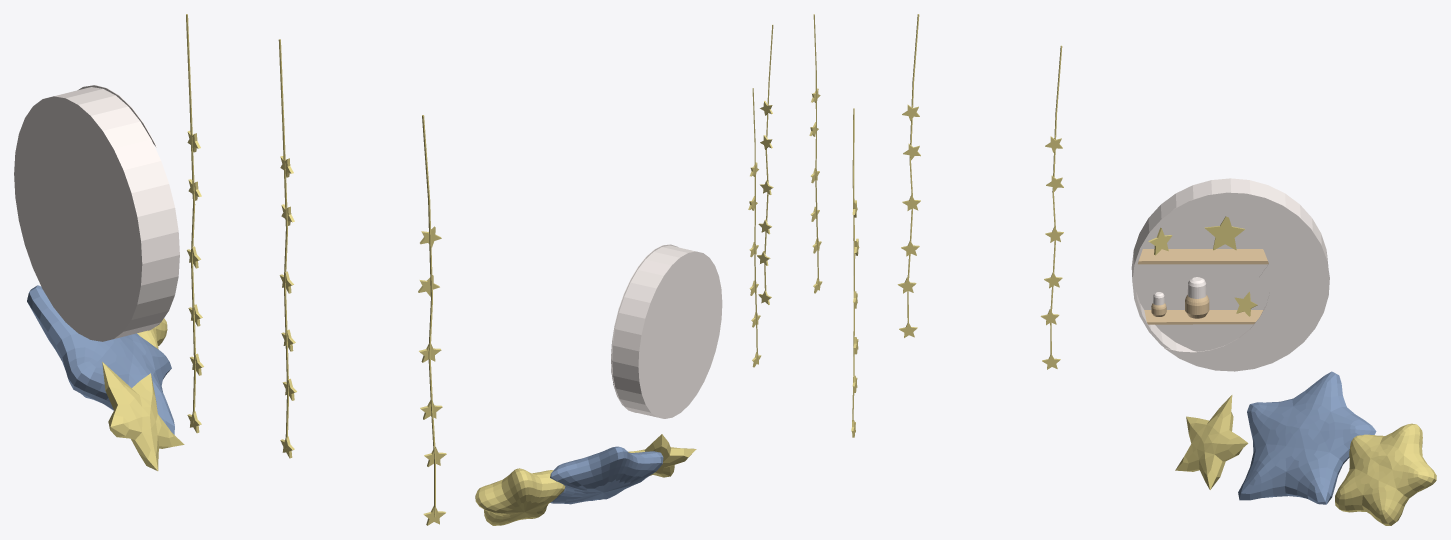
File: Furn8_playzone_color1.fbx
3 renders of one model, left to right at view 1: azimuth 30°, elevation 25°; view 2: azimuth 150°, elevation 25°; view 3: azimuth 270°, elevation 25°, orthographic. The views are drawn at different scales.
Visible parts, largest first — view 1: Plane.048; view 2: Plane.048; view 3: Plane.048.
Boxes of the visible parts, bbox=[...] form: Plane.048: bbox=[14, 14, 446, 525]; Plane.048: bbox=[475, 14, 822, 525]; Plane.048: bbox=[851, 14, 1436, 525].
Bounding box in the file's own units: 241 × 701 × 830.
